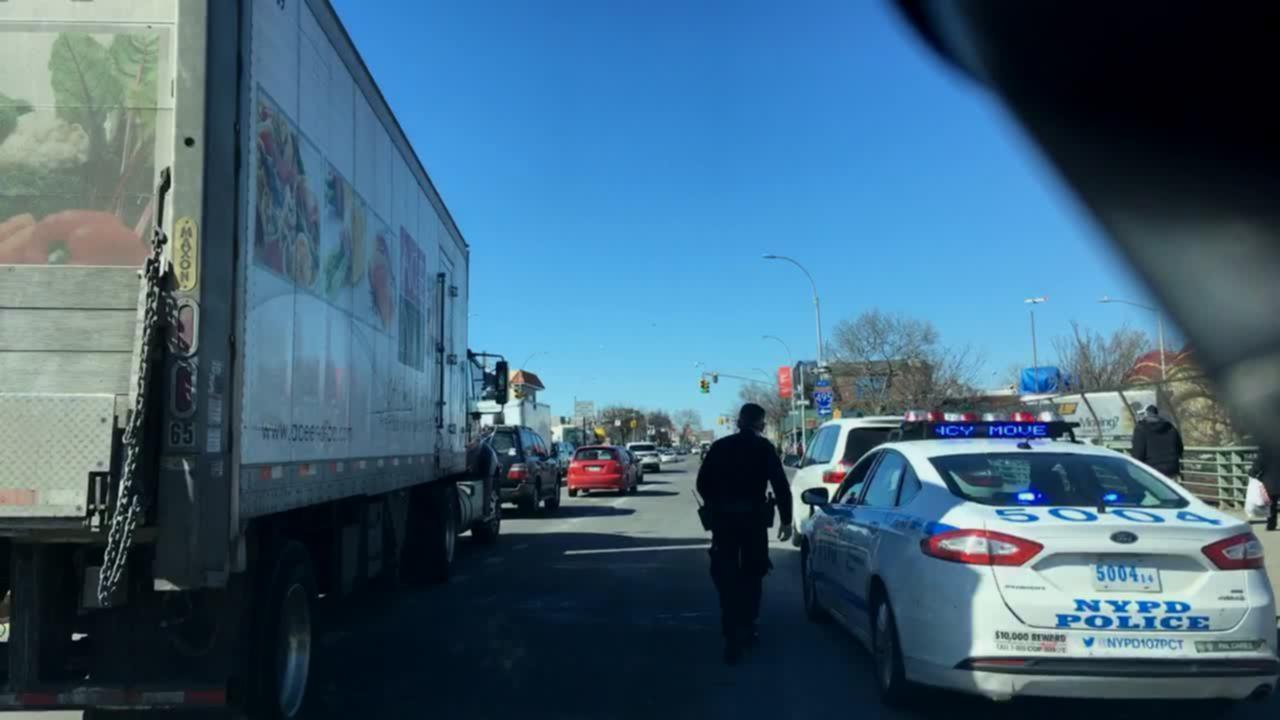ford: (1109, 528, 1139, 548)
